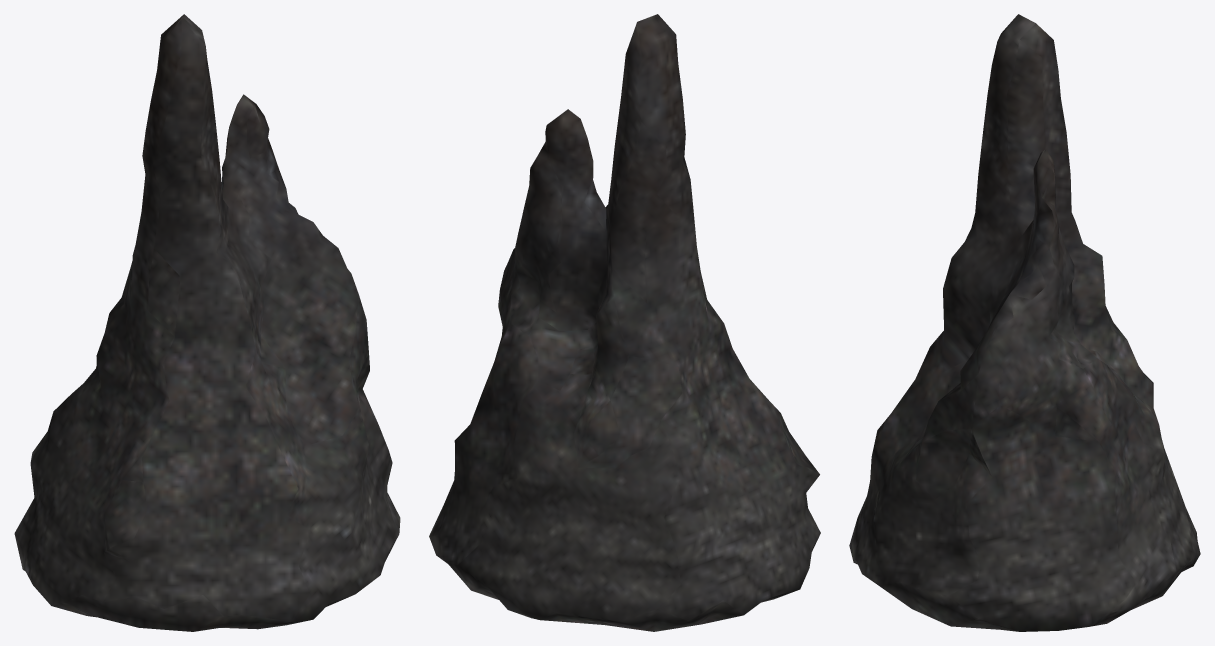
File: CaveRockPack1_Low2.fbx
3 renders of one model, left to right at view 1: azimuth 30°, elevation 25°; view 2: azimuth 150°, elevation 25°; view 3: azimuth 270°, elevation 25°, orthographic. The views are drawn at different scales.
Parts seen in each view (by area): view 1: CaveRockPack1_Low2; view 2: CaveRockPack1_Low2; view 3: CaveRockPack1_Low2.
Boxes of the visible parts, <box> form: CaveRockPack1_Low2: <box>14,14,400,631</box>; CaveRockPack1_Low2: <box>429,14,820,631</box>; CaveRockPack1_Low2: <box>849,14,1200,631</box>.
Size of the model in its own units: 1250 by 1984 by 1171.
